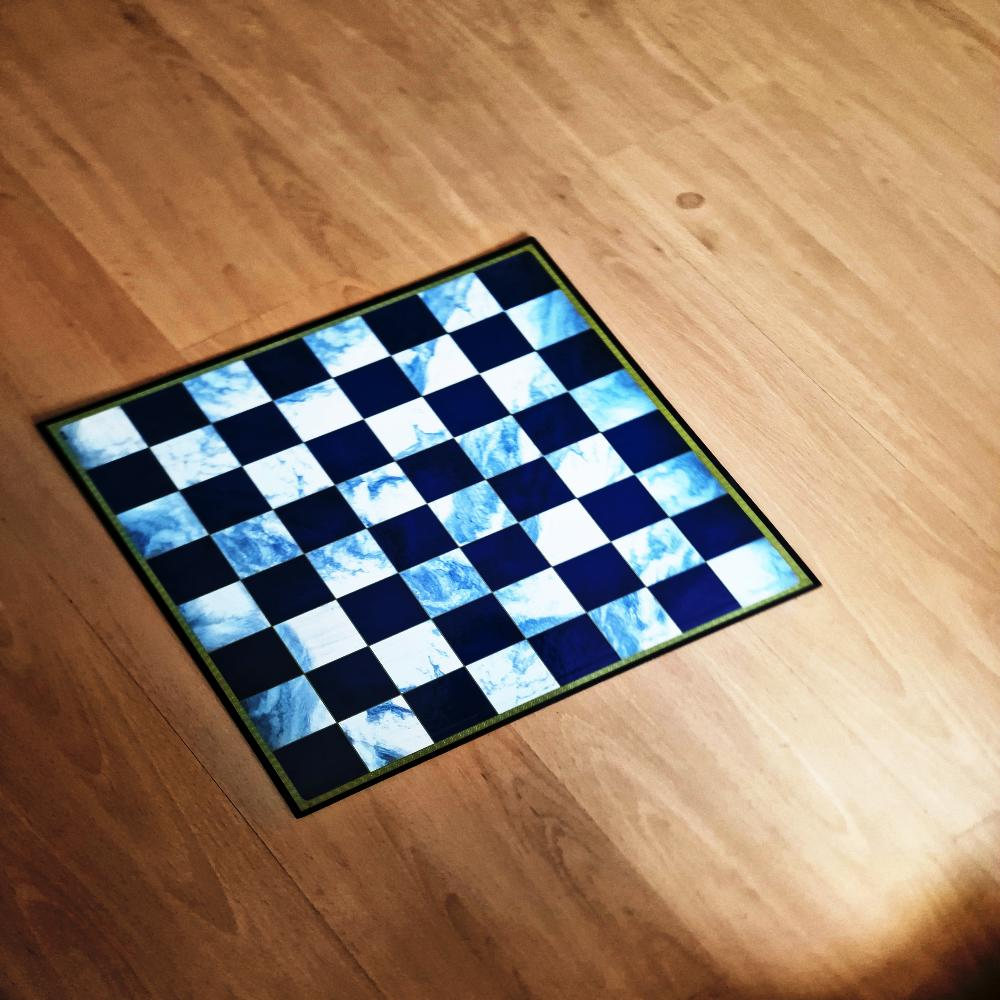chessfield: (461, 639, 568, 721), (584, 586, 689, 667), (336, 697, 440, 778), (702, 537, 810, 614), (272, 726, 370, 809), (42, 404, 150, 476), (245, 674, 341, 753), (402, 670, 501, 746), (172, 579, 272, 654), (368, 621, 466, 696), (301, 647, 399, 722), (108, 493, 207, 566), (275, 603, 371, 677), (649, 564, 745, 638), (492, 568, 590, 640), (209, 511, 306, 583), (302, 530, 398, 602), (526, 614, 622, 686), (396, 547, 492, 618), (207, 631, 301, 703), (631, 452, 729, 521), (611, 518, 706, 589), (517, 501, 613, 571), (182, 351, 274, 424), (433, 593, 526, 665), (245, 555, 340, 625), (240, 444, 336, 513), (143, 536, 237, 606), (334, 572, 427, 642), (422, 485, 518, 552), (274, 485, 368, 553), (151, 424, 245, 492), (334, 462, 428, 530), (463, 526, 556, 594), (566, 366, 660, 433), (178, 471, 272, 538), (410, 268, 504, 334), (542, 433, 634, 500), (554, 542, 644, 610), (274, 381, 366, 447), (119, 383, 211, 449), (455, 414, 545, 481), (372, 507, 462, 574), (86, 447, 176, 514), (670, 497, 761, 563), (360, 398, 452, 463), (503, 290, 596, 354), (580, 480, 670, 546), (300, 310, 388, 377), (303, 419, 393, 484), (476, 352, 566, 417), (212, 402, 300, 468), (394, 438, 484, 502), (470, 245, 557, 311), (488, 458, 577, 522), (393, 333, 483, 396), (602, 411, 692, 474), (241, 339, 330, 402), (513, 394, 599, 457), (360, 293, 446, 356), (333, 357, 421, 418), (421, 375, 508, 436), (448, 312, 534, 373), (534, 332, 619, 393)
